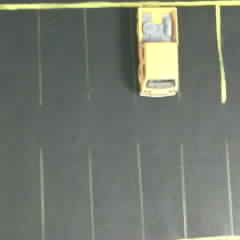Car: (134, 2, 183, 103)
